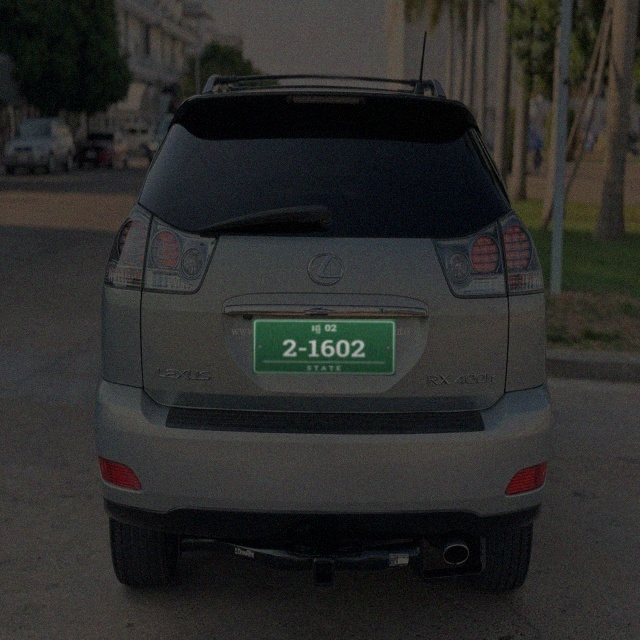Plate Number: (253, 320, 397, 376)
